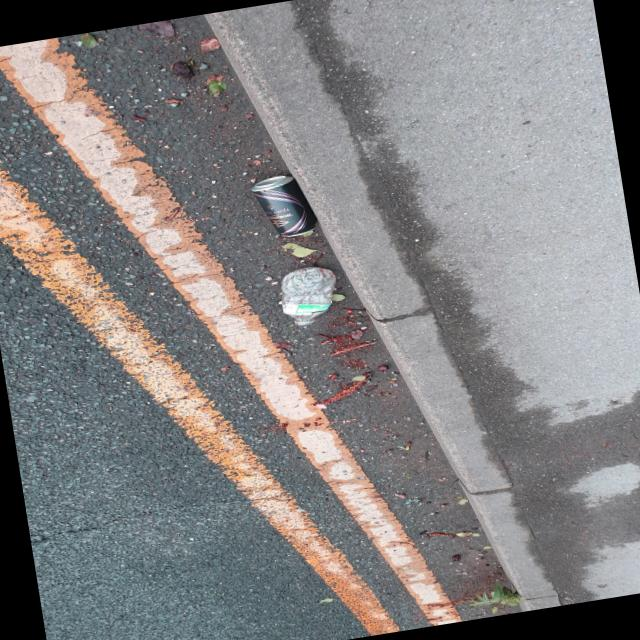less trash: (250, 175, 318, 237), (281, 267, 336, 326), (318, 292, 320, 294)
